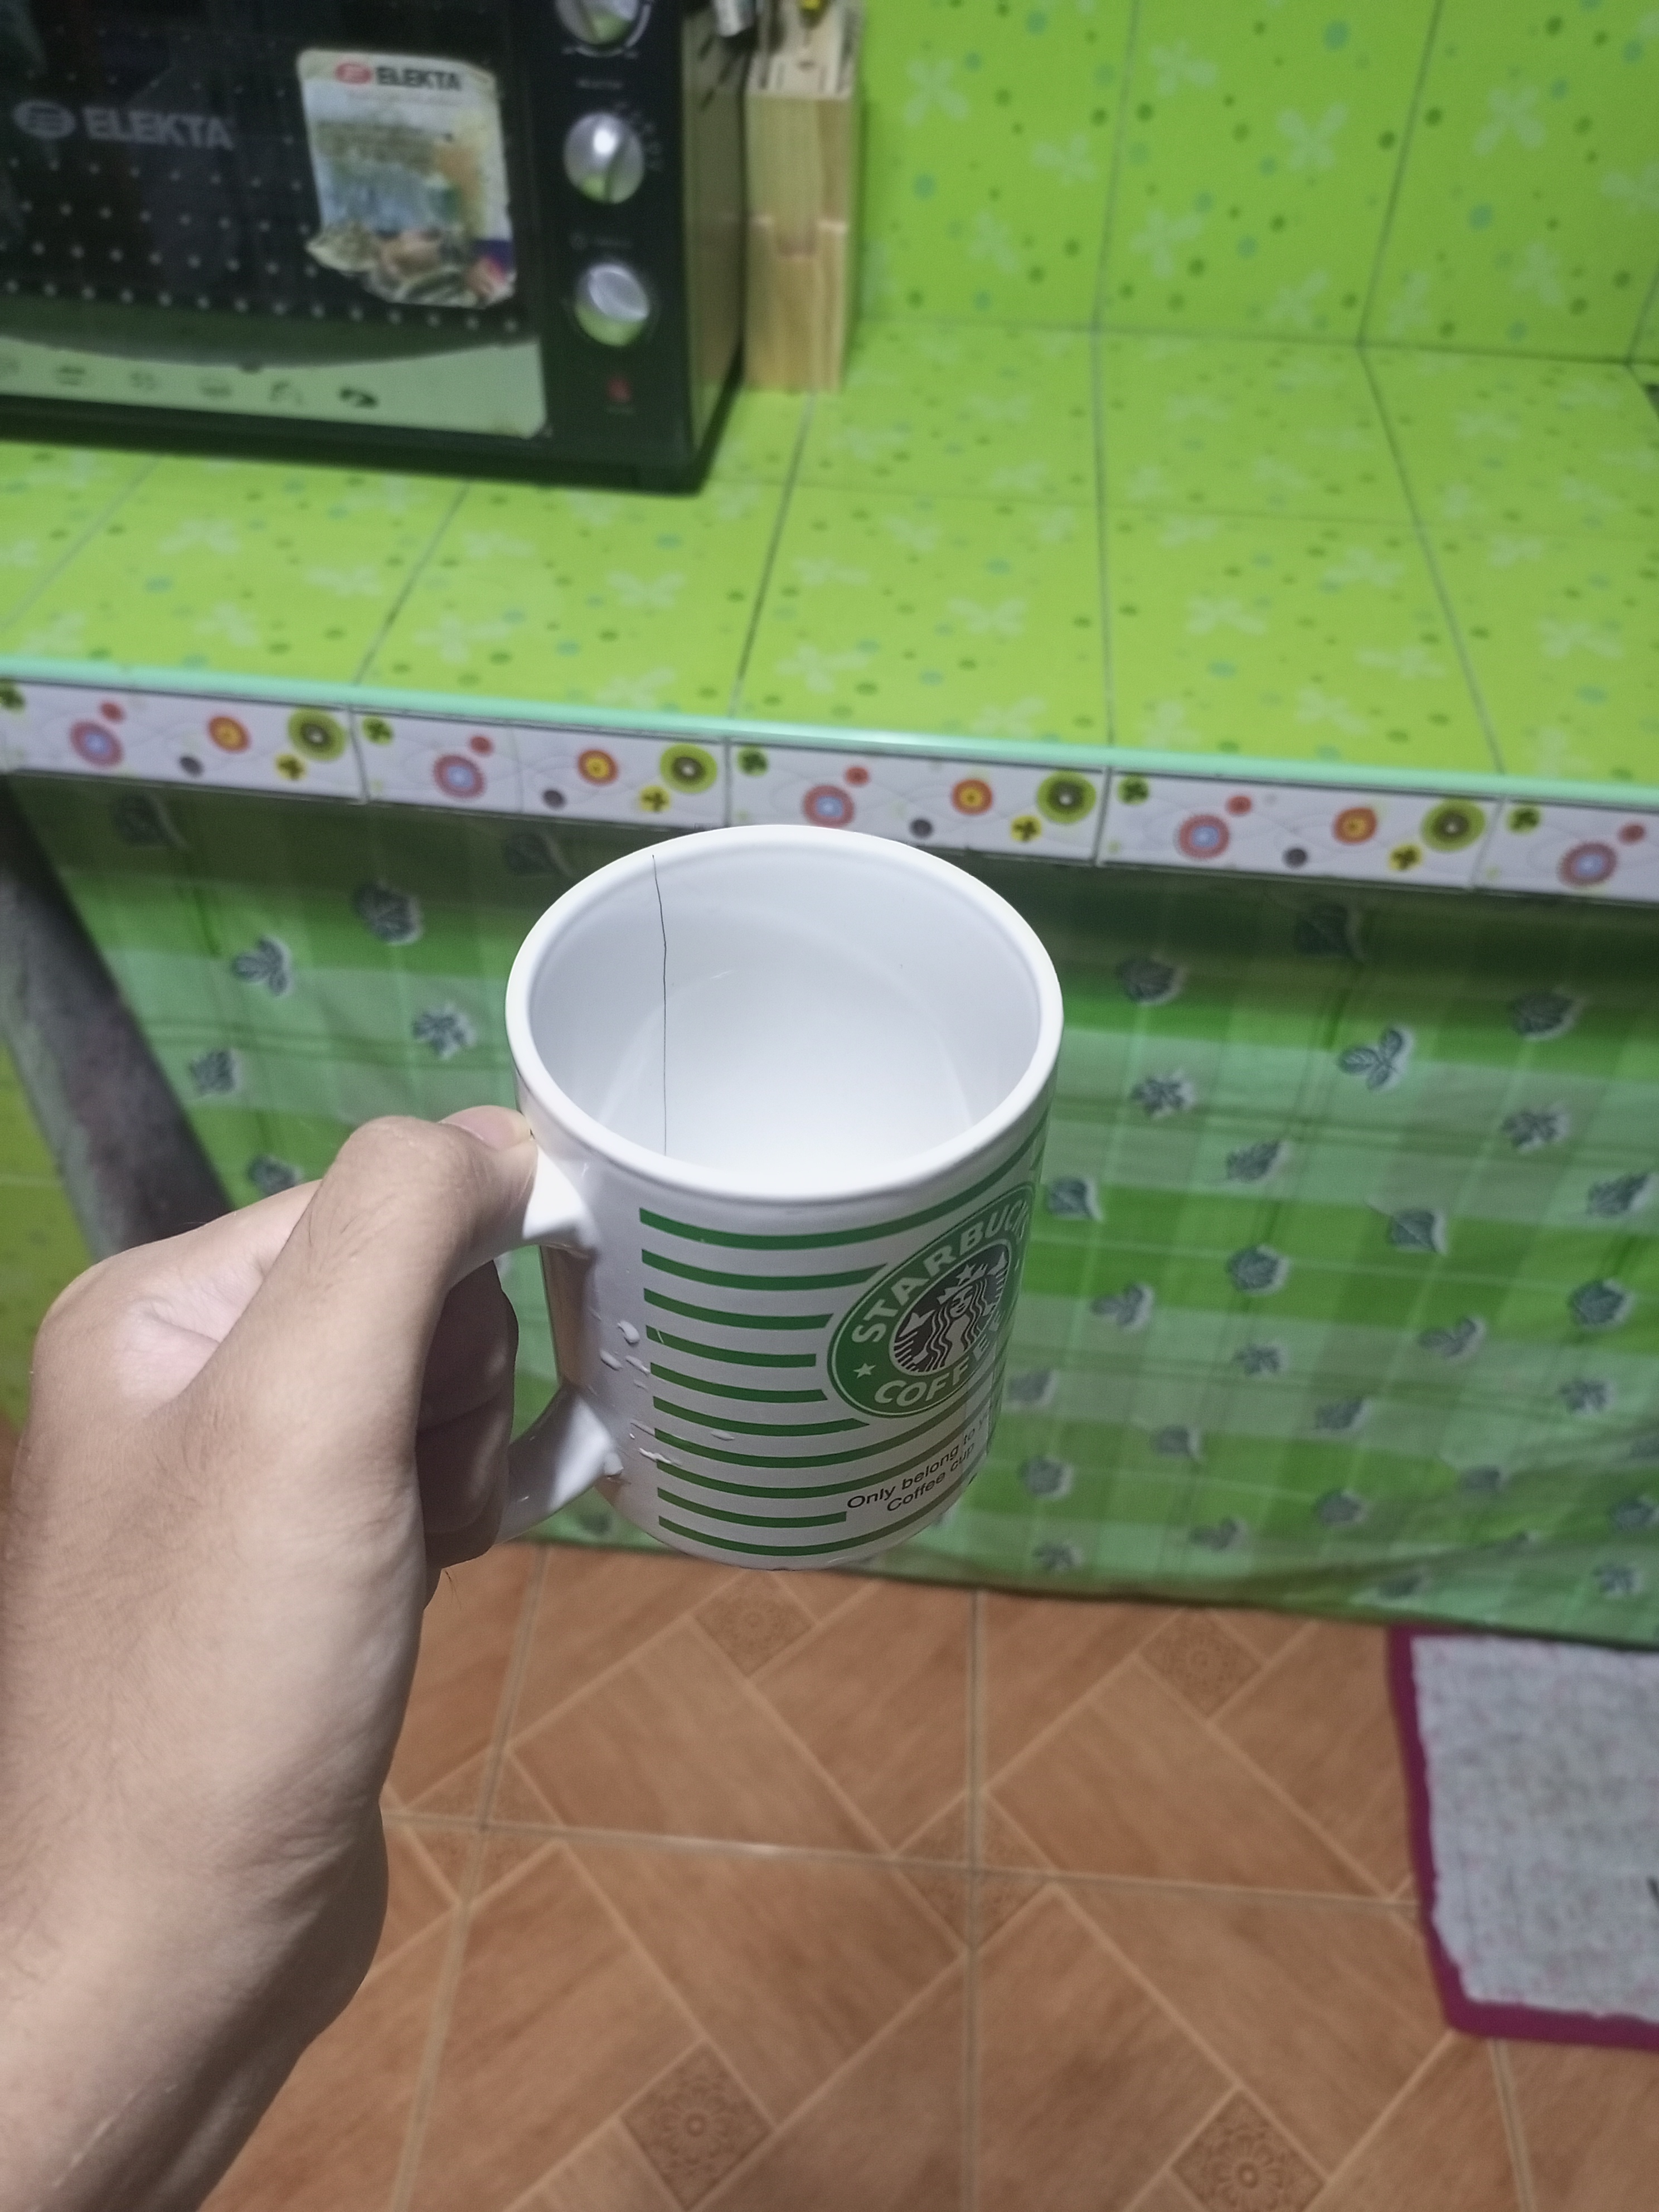mug: (380, 820, 1058, 1578)
